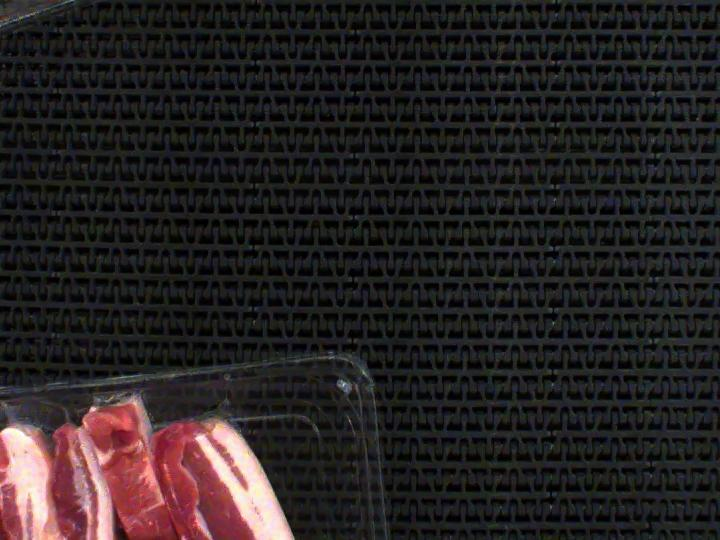packaging-error: (0, 393, 84, 438), (79, 387, 151, 421)
unsealed: (184, 386, 260, 437)
